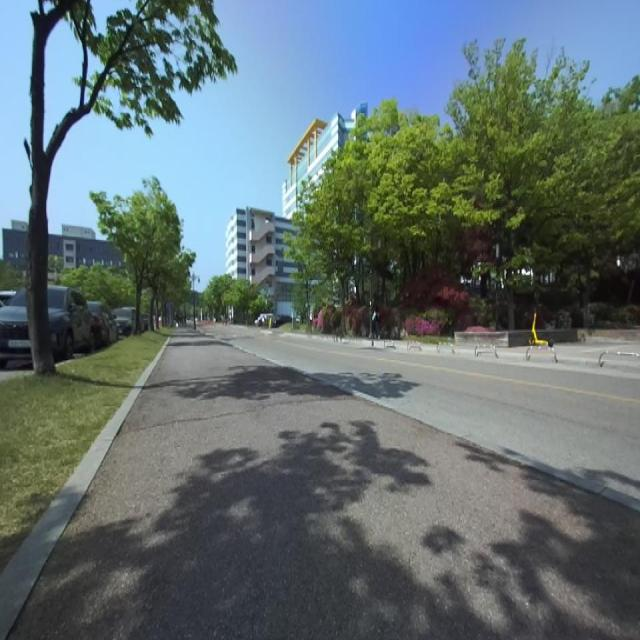sidewalk: (11, 329, 640, 639)
